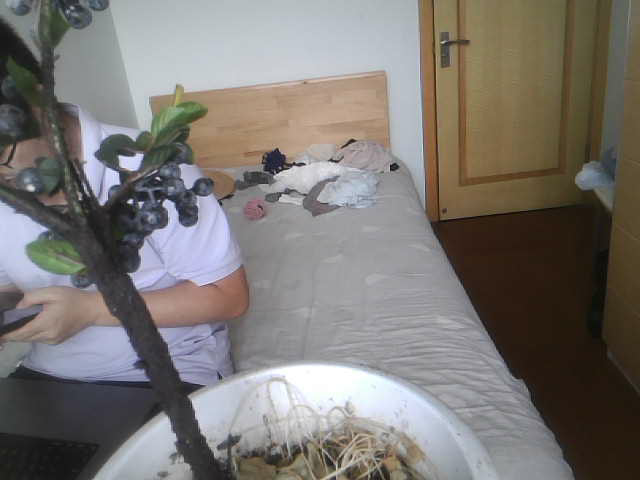blueberry: (141, 190, 168, 237), (104, 234, 137, 272), (172, 193, 200, 223), (153, 161, 184, 187), (17, 171, 49, 194), (102, 178, 129, 202), (187, 179, 215, 193), (74, 269, 89, 286)
